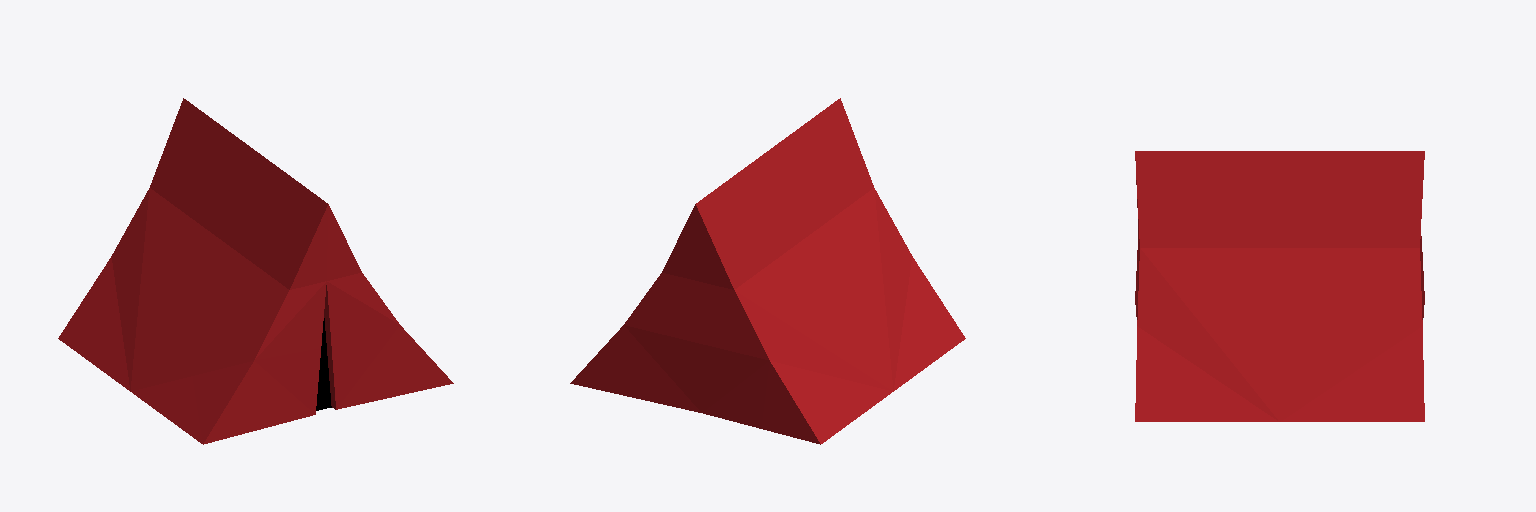
File: tent1.obj
The picture shows the model from 3 angles: view 1: azimuth 30°, elevation 25°; view 2: azimuth 150°, elevation 25°; view 3: azimuth 270°, elevation 25°; orthographic projection.
Parts seen in each view (by area): view 1: Object.1, Object.2; view 2: Object.1; view 3: Object.1.
Part boxes in pixels (x1,y1,x2,y2): Object.1: (58, 98, 453, 444); Object.2: (316, 318, 331, 410); Object.1: (570, 98, 965, 444); Object.1: (1135, 151, 1424, 421).
Size of the model in its own units: 3 by 2.4 by 3.